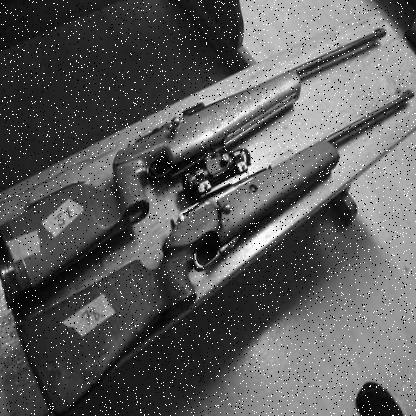rifle: (51, 84, 414, 396), (7, 18, 398, 296)
